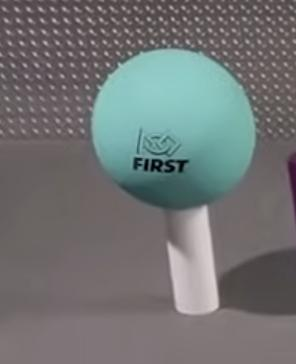algae: (91, 49, 256, 210)
coral: (165, 204, 219, 315)
